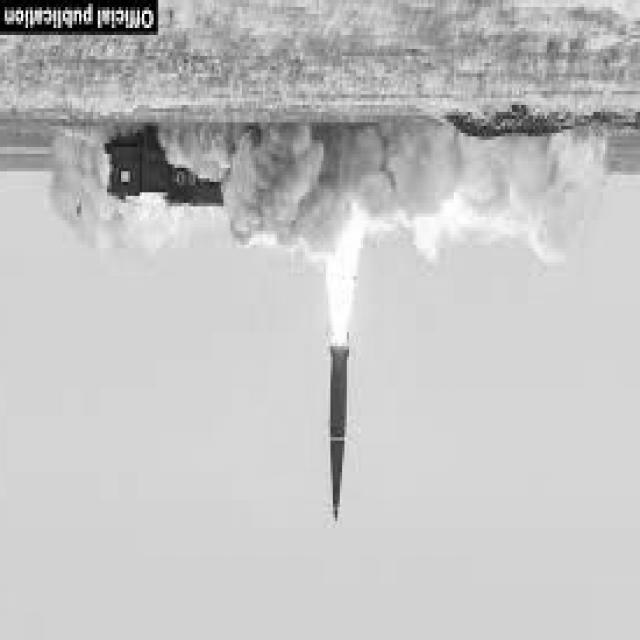Missile: (321, 336, 361, 528)
